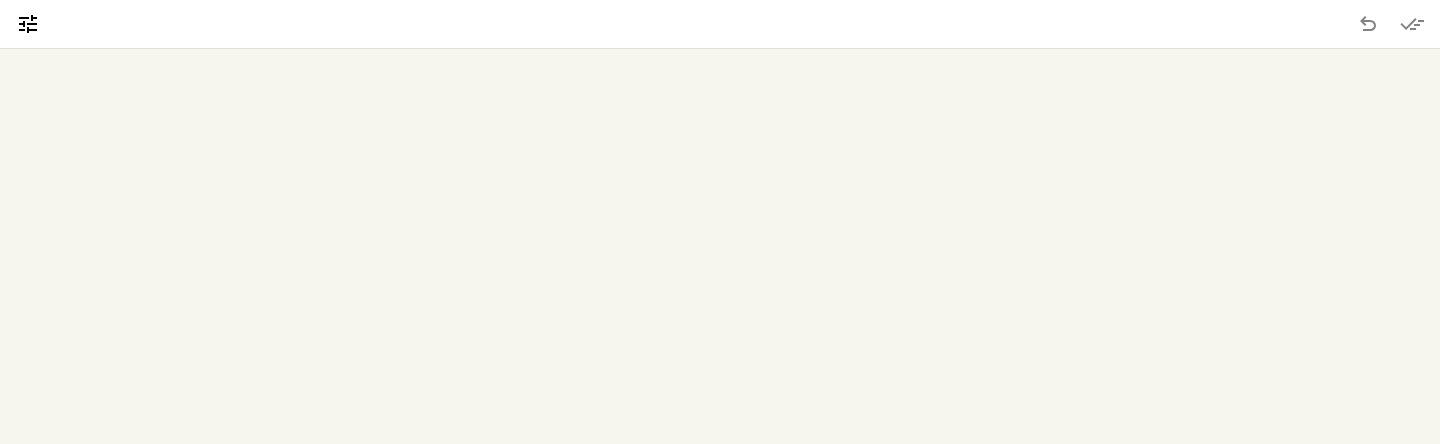
Test case: <ListToolbar> › disabling a branch dims its rows but keeps the slider readable
Click the button with test id "hot-rule-card-toggle": (28, 24) [8,4,48,44]
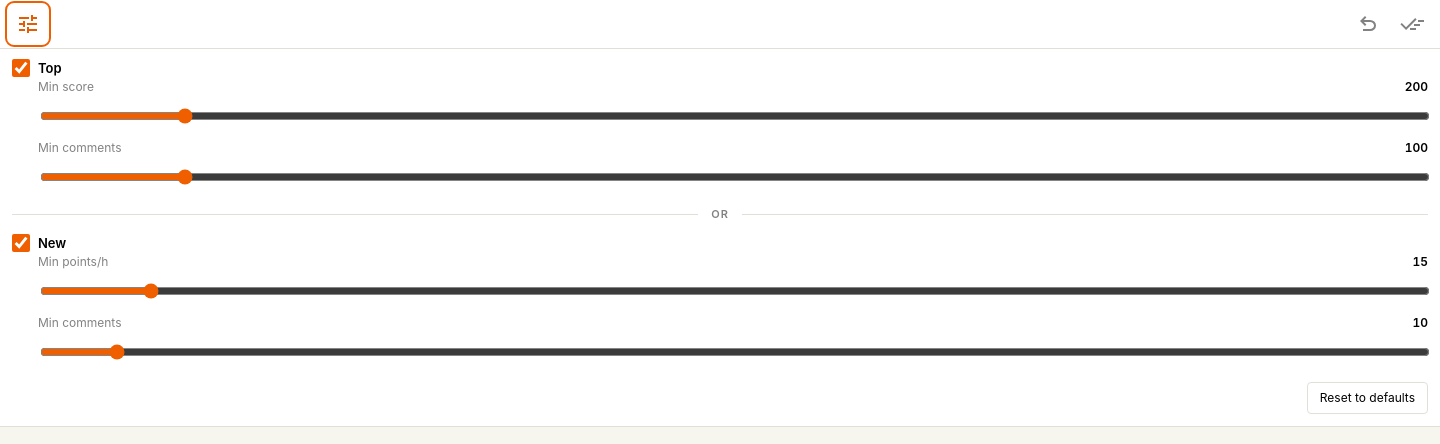
Expected: the slider labelled "Min score 200" is enabled, [40,100,1430,132]
Click the checkbox labelled "Top": (21, 68) [12,59,30,77]
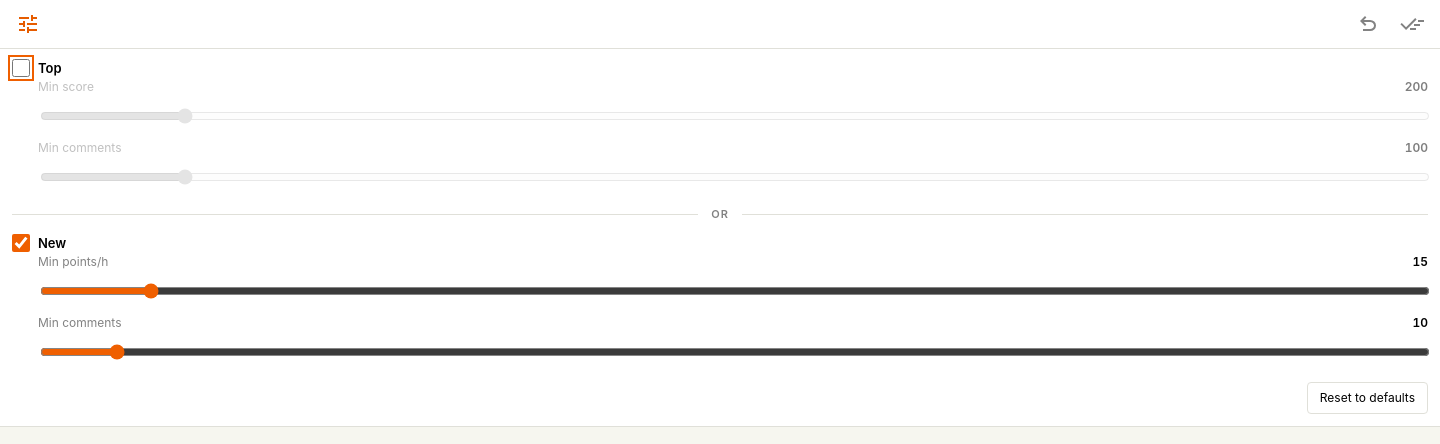
Expected: the slider labelled "Min score 200" is disabled, [40,100,1430,132]
